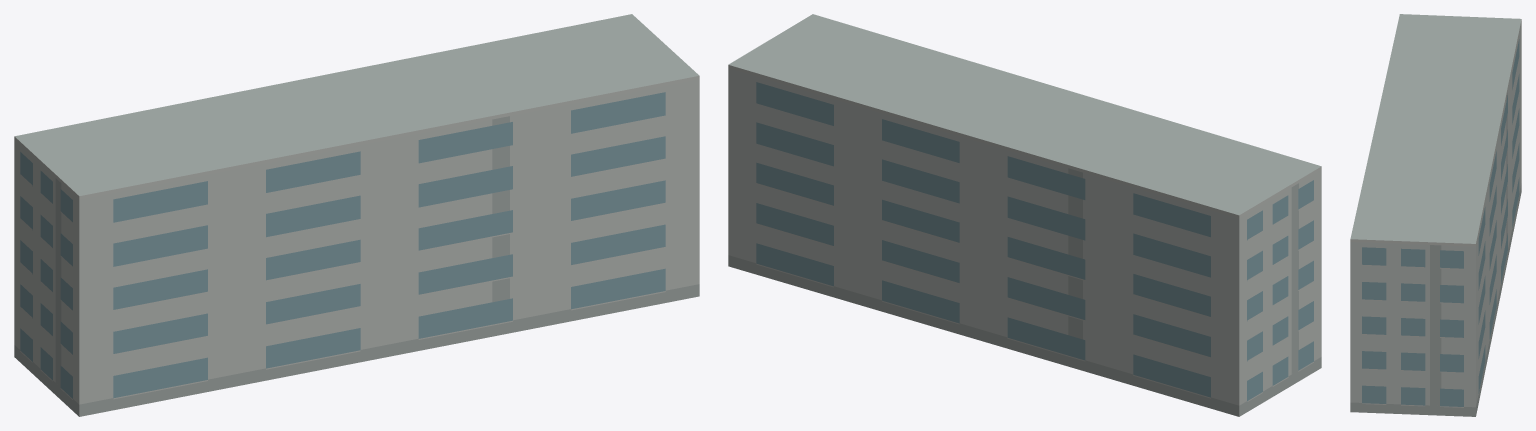
File: residential-66155c53-ecab-48db-aafa-e687252ec983.glb
The picture shows the model from 3 angles, left to right: view 1: azimuth 30°, elevation 25°; view 2: azimuth 150°, elevation 25°; view 3: azimuth 270°, elevation 25°; orthographic projection. The views are drawn at different scales.
Visible parts, largest first — view 1: residential-66155c53-ecab-48db-aafa-e687252ec983.tmp; view 2: residential-66155c53-ecab-48db-aafa-e687252ec983.tmp; view 3: residential-66155c53-ecab-48db-aafa-e687252ec983.tmp.
Boxes of the visible parts, <box> form: residential-66155c53-ecab-48db-aafa-e687252ec983.tmp: <box>14,14,699,416</box>; residential-66155c53-ecab-48db-aafa-e687252ec983.tmp: <box>728,14,1321,416</box>; residential-66155c53-ecab-48db-aafa-e687252ec983.tmp: <box>1350,14,1521,416</box>.
Size of the model in its own units: 43.5 by 15.25 by 13.69.
